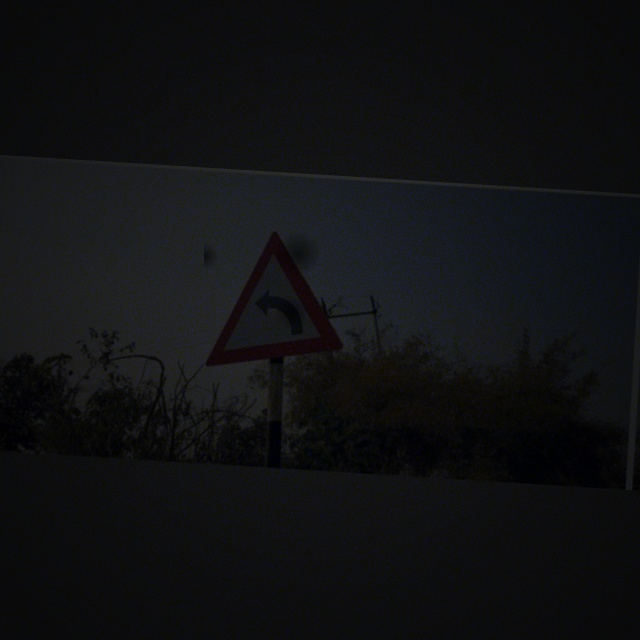Left_Hand_Curve: (204, 225, 342, 368)
